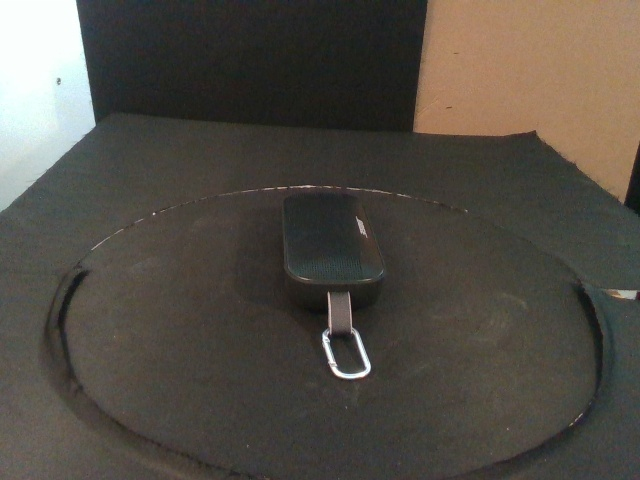speaker: (283, 189, 388, 310)
